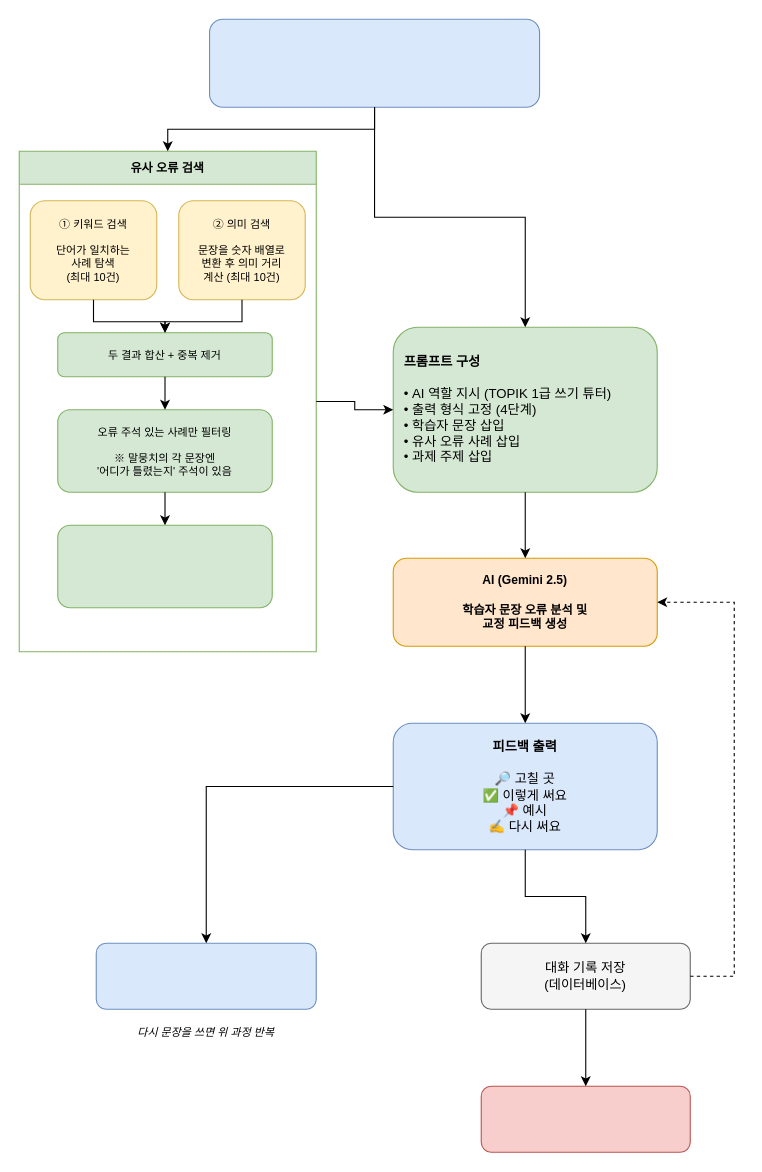
This 762x1172 diagram has some shape labels left out. The shapes that lost their labels are listed below. From the top down, each one's centre as x and y in pixels, then its label:
At point 374,62: "사용자 (웹 브라우저) 로그인 → 한국어 문장 입력 + (선택) 과제 주제".
At point 164,566: "기계어 → 자연어 변환 예) 하고/JKB→와/JKB → '하고'를 '와'로 (조사 오류)".
At point 205,975: "사용자 화면 표시 (학습자가 피드백 확인)".
At point 585,1118: "관리자 대시보드 모든 사용자/대화 열람 가능".
